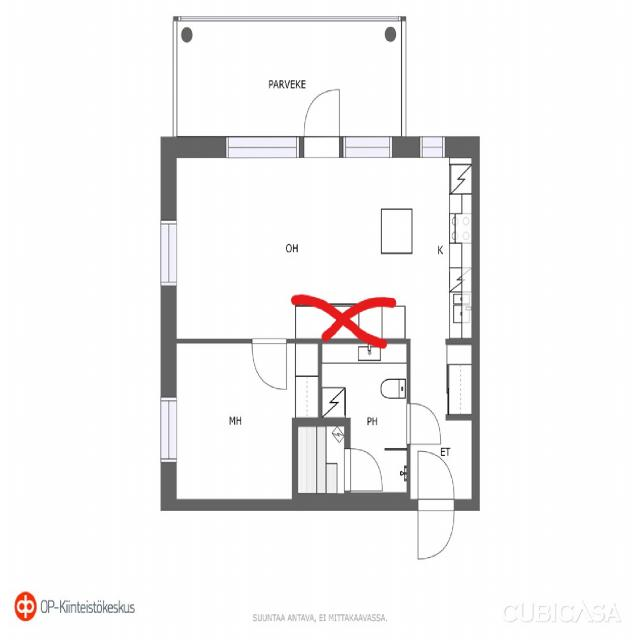door: (303, 89, 339, 157), (418, 499, 454, 559), (418, 451, 454, 511), (252, 339, 286, 389), (344, 449, 382, 491), (406, 404, 441, 444)
